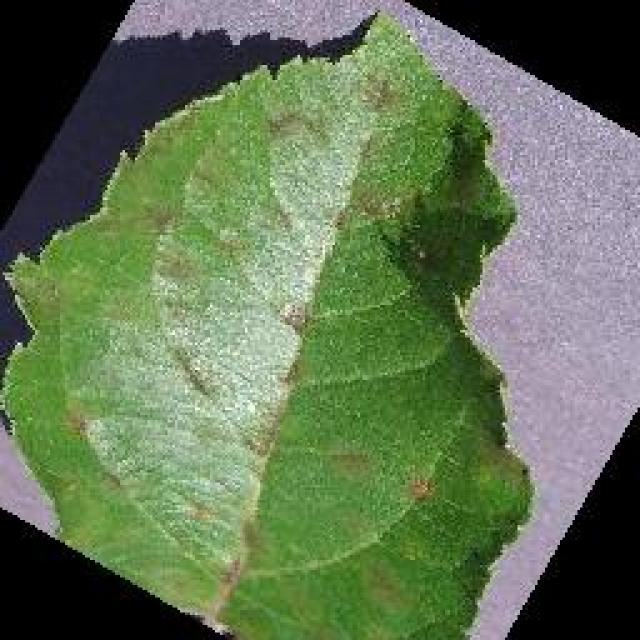apple scab disease: (0, 8, 538, 638)
